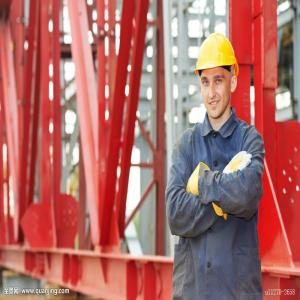yellow: (194, 32, 241, 119)
